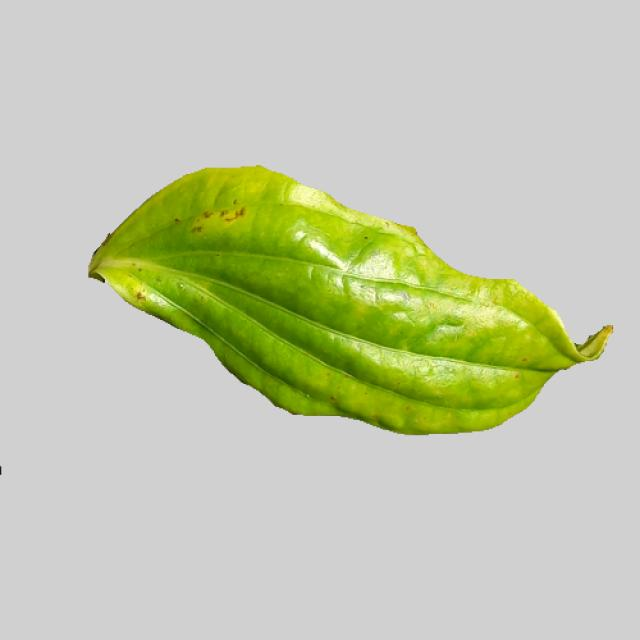yellow-mottle-virus: (79, 168, 617, 449)
